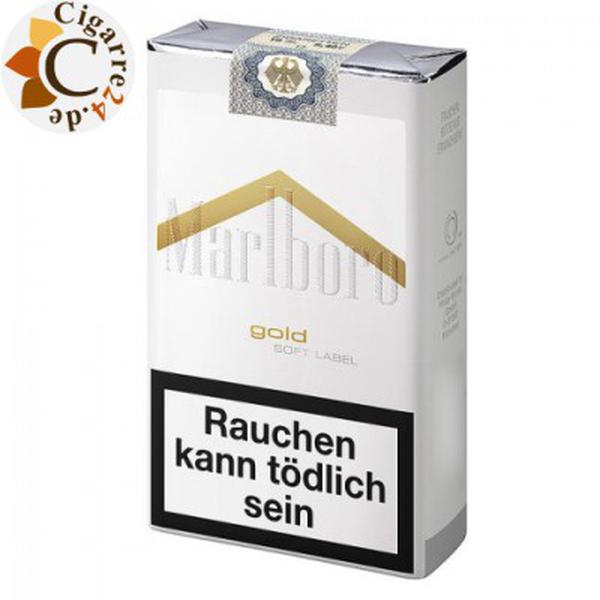marlboro_gold: (152, 71, 415, 531)
